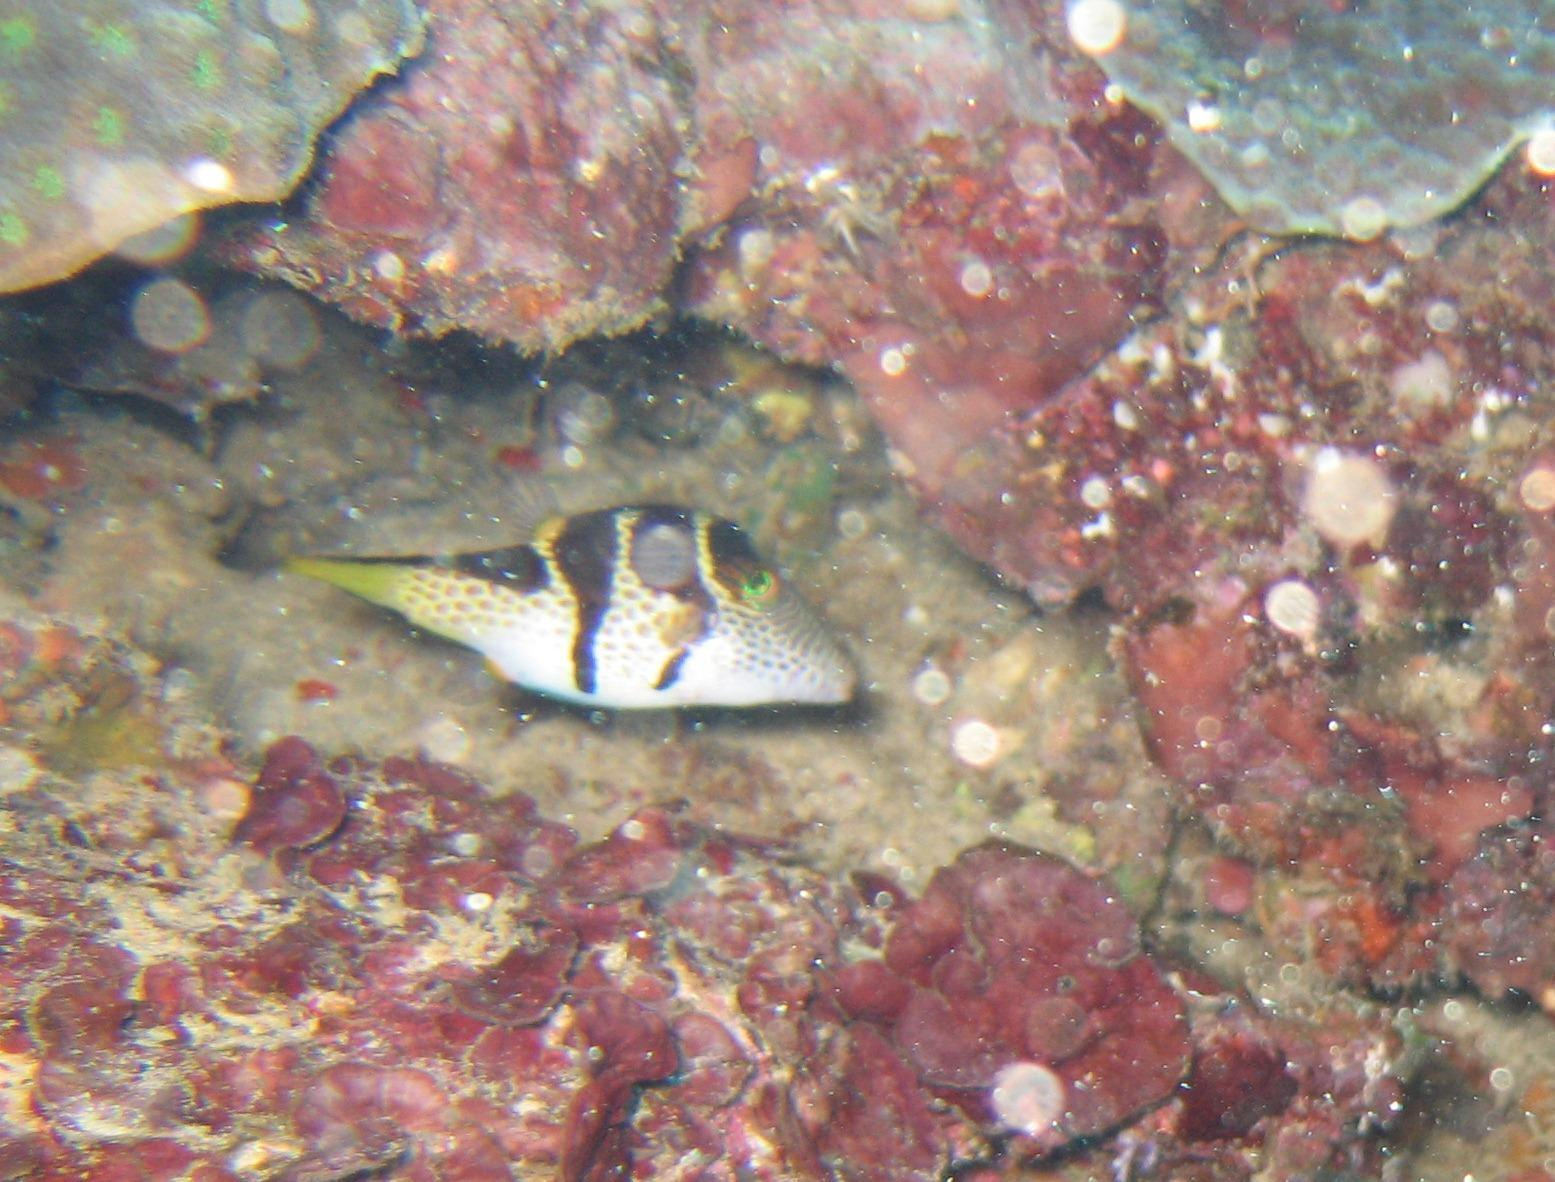Fish: (266, 476, 863, 747)
